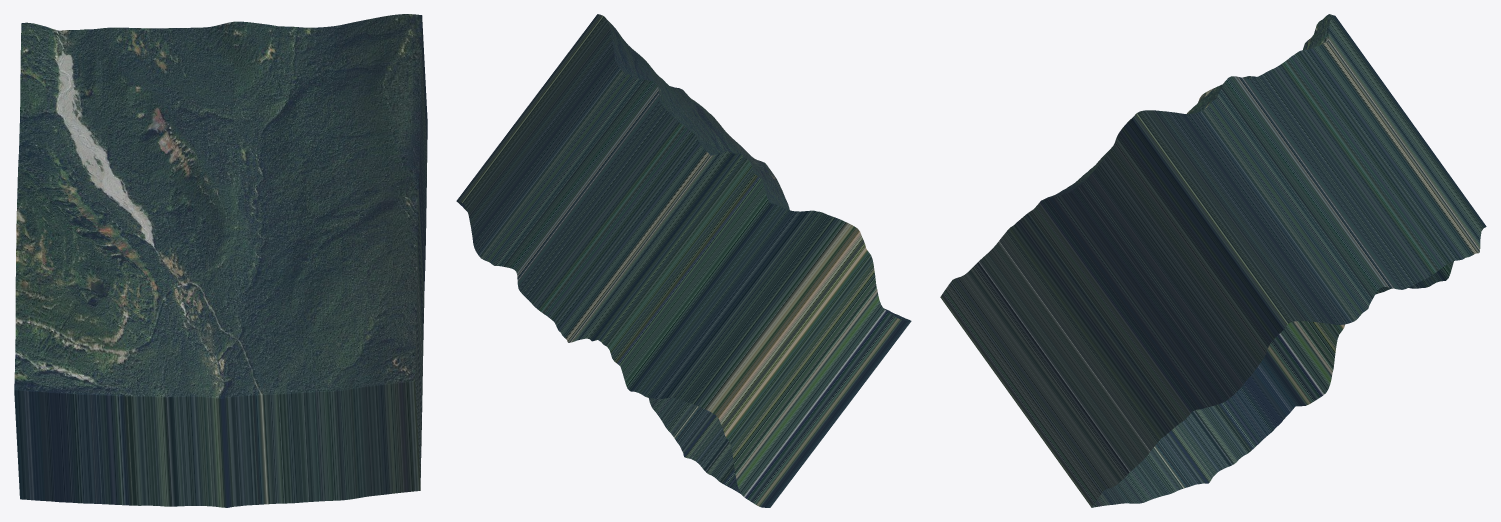
The picture shows the model from 3 angles, left to right: view 1: azimuth 30°, elevation 25°; view 2: azimuth 150°, elevation 25°; view 3: azimuth 270°, elevation 25°; orthographic projection. The views are drawn at different scales.
Size of the model in its own units: 5798 by 5504 by 6316.
Materials: 1 (1 with a texture image).
